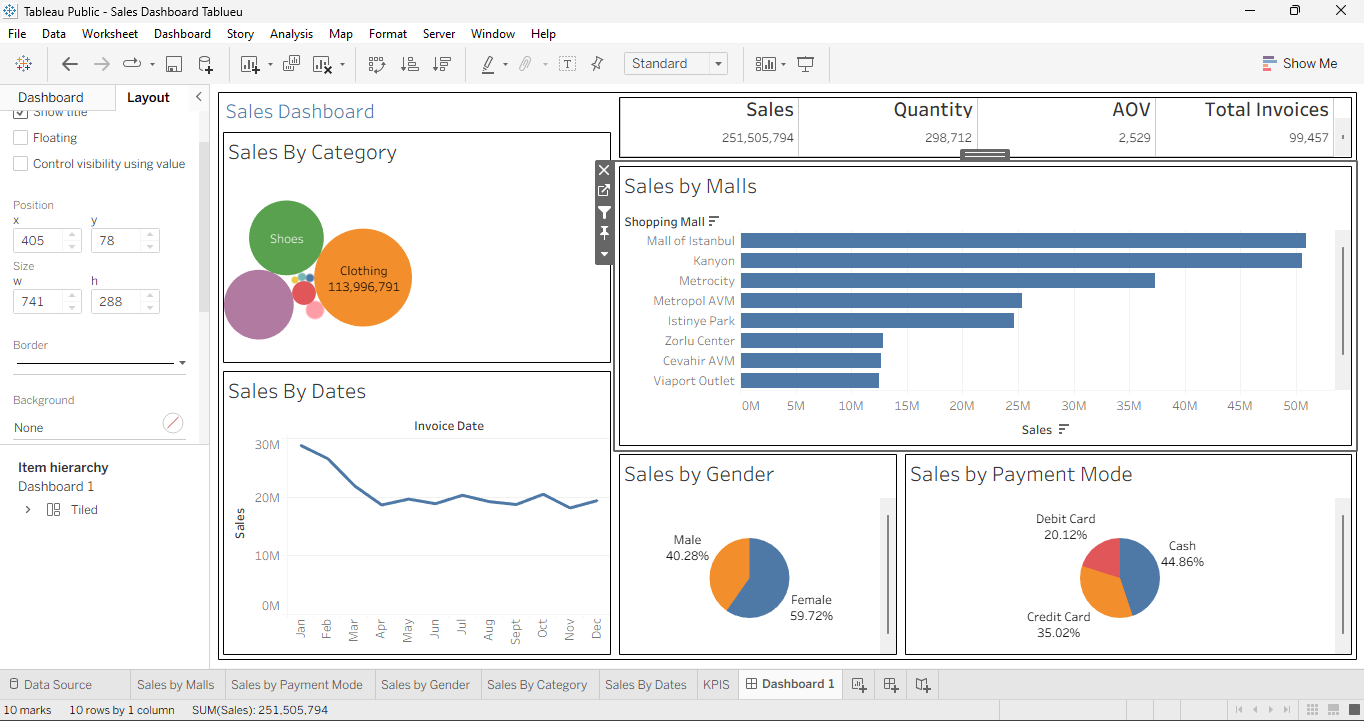

The page's visual inventory and layout, read from the dashboard file:
{"tool":"tableau","page":{"name":"Dashboard 1","canvas":[1000,1000],"units":"permille","ordinal":0},"visuals":[{"type":"text","box":[7.8,15.4,342.8,59.9]},{"type":"worksheet","title":"KPIS","mark":"Automatic","box":[350.6,15.4,641.6,118.2]},{"type":"worksheet","title":"Sales By Category","mark":"Circle","box":[7.8,75.3,342.8,409.2]},{"type":"worksheet","title":"Sales by Malls","mark":"Automatic","rows":["shopping_mall"],"cols":["Calculation_0240022102253568"],"box":[350.6,133.6,641.6,493.2]},{"type":"worksheet","title":"Sales By Dates","mark":"Automatic","rows":["Calculation_0240022102253568"],"cols":["invoice_date"],"box":[7.8,484.6,342.8,500]},{"type":"worksheet","title":"Sales by Gender","mark":"Pie","box":[350.6,626.7,247.6,357.9]},{"type":"worksheet","title":"Sales by Payment Mode","mark":"Pie","box":[598.2,626.7,393.9,357.9]}]}

Visuals, with their boxes on the dashboard's canvas, which has no fixed pixel size, in thousandths of its width and height (x1, y1, x2, y2). These are canvas units, not pixel positions in the 1364x721 screenshot, which may show the page scaled, cropped or inside an application window:
text: (8, 15, 351, 75)
"KPIS" worksheet: (351, 15, 992, 134)
"Sales By Category" worksheet (Circle marks): (8, 75, 351, 484)
"Sales by Malls" worksheet: (351, 134, 992, 627)
"Sales By Dates" worksheet: (8, 485, 351, 985)
"Sales by Gender" worksheet (Pie marks): (351, 627, 598, 985)
"Sales by Payment Mode" worksheet (Pie marks): (598, 627, 992, 985)
